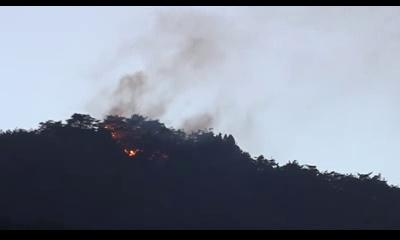fire: (103, 123, 142, 160)
smoke: (115, 72, 218, 111)
